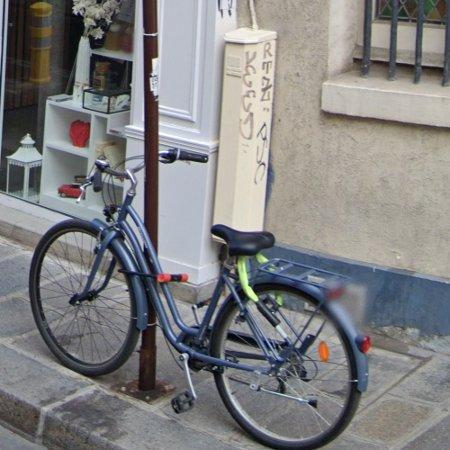bicycles: (31, 160, 370, 450)
